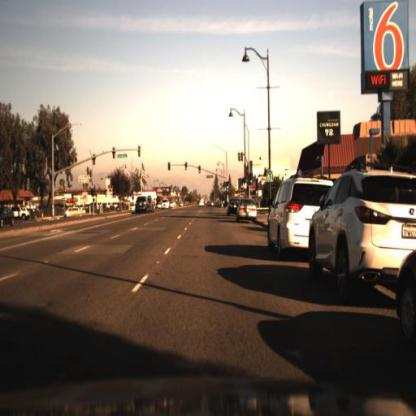car: (304, 169, 416, 289), (265, 174, 339, 264), (262, 170, 313, 265), (236, 198, 258, 225), (135, 192, 153, 219), (14, 207, 39, 225), (14, 203, 35, 221), (135, 196, 150, 219), (226, 197, 239, 218)
trafficLight-Green: (196, 161, 204, 177), (249, 173, 255, 191), (224, 183, 230, 196), (184, 159, 189, 172)
